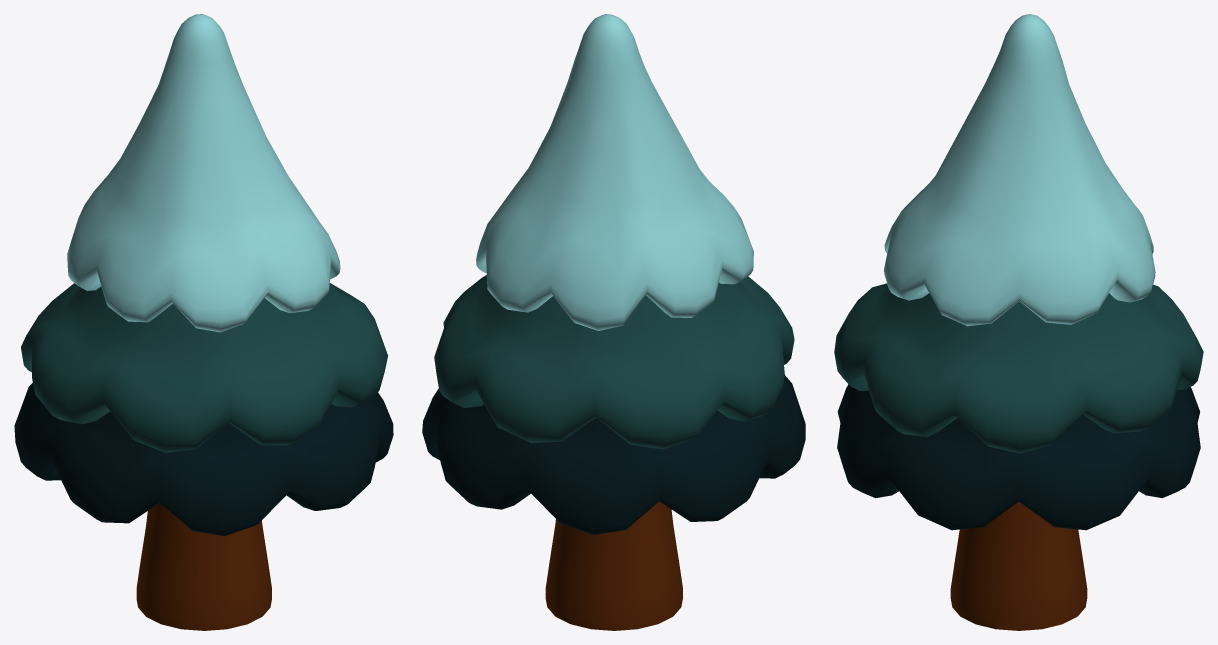
File: Sapin_Pic.fbx
3 renders of one model, left to right at view 1: azimuth 30°, elevation 25°; view 2: azimuth 150°, elevation 25°; view 3: azimuth 270°, elevation 25°, orthographic.
Visible parts, largest first — view 1: Feuilles_Haut_low, Feuilles_Milieu_low, Feuilles_Bas_low, Tronc_low; view 2: Feuilles_Haut_low, Feuilles_Milieu_low, Feuilles_Bas_low, Tronc_low; view 3: Feuilles_Haut_low, Feuilles_Milieu_low, Feuilles_Bas_low, Tronc_low.
Part boxes in pixels (bbox=[...]): Feuilles_Haut_low: bbox=[67, 14, 340, 332]; Feuilles_Milieu_low: bbox=[21, 283, 387, 452]; Feuilles_Bas_low: bbox=[14, 383, 393, 536]; Tronc_low: bbox=[136, 503, 271, 630]; Feuilles_Haut_low: bbox=[476, 14, 753, 330]; Feuilles_Milieu_low: bbox=[434, 275, 794, 449]; Feuilles_Bas_low: bbox=[422, 375, 805, 534]; Tronc_low: bbox=[545, 501, 682, 630]; Feuilles_Haut_low: bbox=[884, 14, 1155, 326]; Feuilles_Milieu_low: bbox=[834, 283, 1203, 453]; Feuilles_Bas_low: bbox=[837, 384, 1200, 530]; Tronc_low: bbox=[950, 501, 1087, 630].
Bounding box in the file's own units: 28.96 × 50.8 × 28.95.
